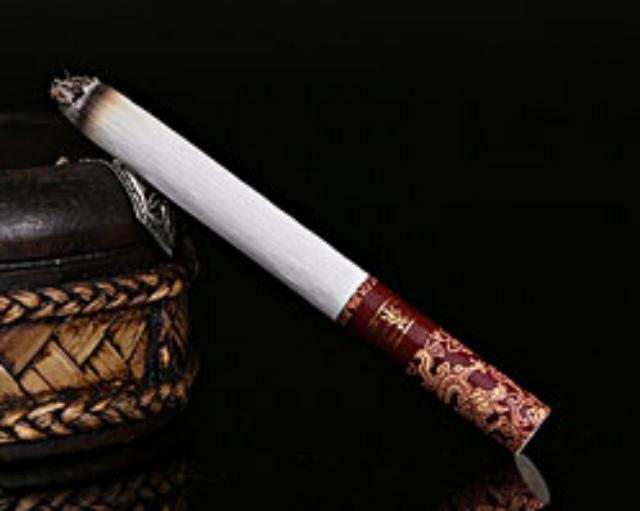Smoking: (47, 67, 555, 460)
